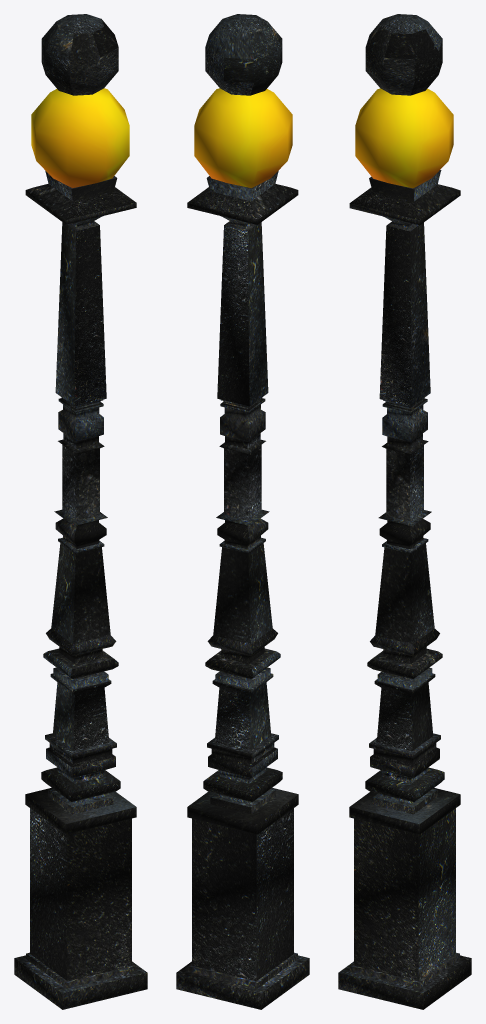
Rendered from textured lamp 8.fbx.
3 views of the same model, side by side, from view 1: azimuth 30°, elevation 25°; view 2: azimuth 150°, elevation 25°; view 3: azimuth 330°, elevation 25° (orthographic).
Visible parts, largest first — view 1: Sphere.001, Sphere.003; view 2: Sphere.001, Sphere.003; view 3: Sphere.001, Sphere.003.
Boxes of the visible parts, x1,y1,x2,y2 form: Sphere.001: [14, 14, 147, 1009]; Sphere.003: [31, 88, 129, 187]; Sphere.001: [176, 14, 309, 1009]; Sphere.003: [194, 88, 292, 188]; Sphere.001: [338, 14, 471, 1009]; Sphere.003: [355, 88, 453, 188].
Bounding box in the file's own units: 42.77 × 447 × 42.77.
2 materials, 2 textured.
